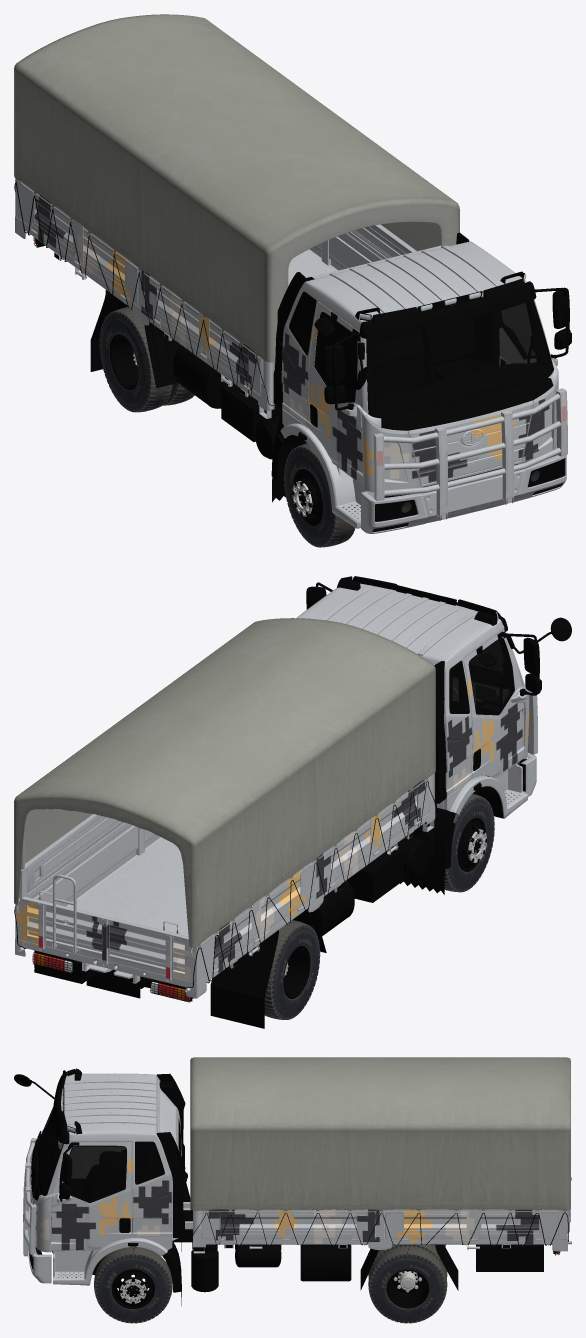
3 renders of one model, top to bottom at view 1: azimuth 30°, elevation 25°; view 2: azimuth 150°, elevation 25°; view 3: azimuth 270°, elevation 25°, orthographic. The views are drawn at different scales.
Parts seen in each view (by area): view 1: CA1125J; view 2: CA1125J; view 3: CA1125J.
Part boxes in pixels (x1=…): CA1125J: x1=14, y1=14, x2=571, y2=547; CA1125J: x1=14, y1=576, x2=571, y2=1028; CA1125J: x1=14, y1=1057, x2=571, y2=1323.
Bounding box in the file's own units: 2.3 × 2.58 × 6.1.
